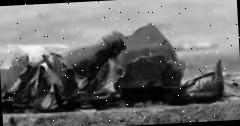glass: (27, 30, 130, 112), (161, 58, 224, 108)
